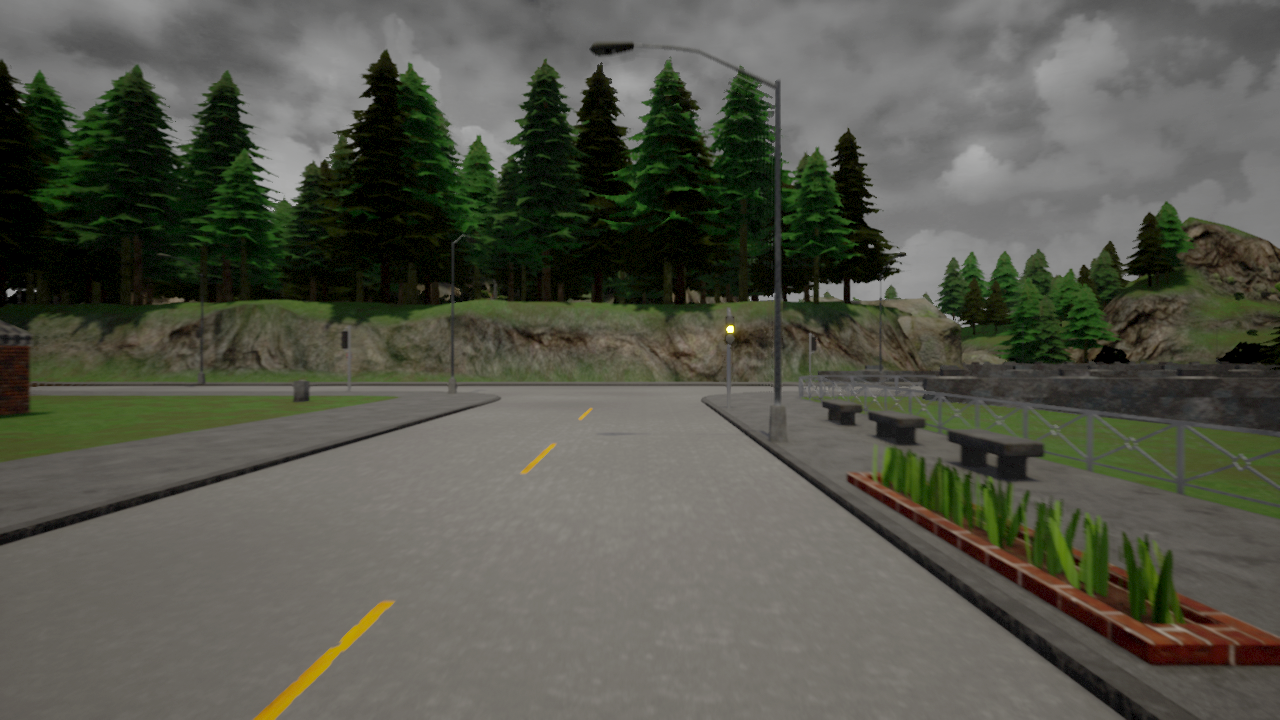yellow: (724, 314, 736, 346)
